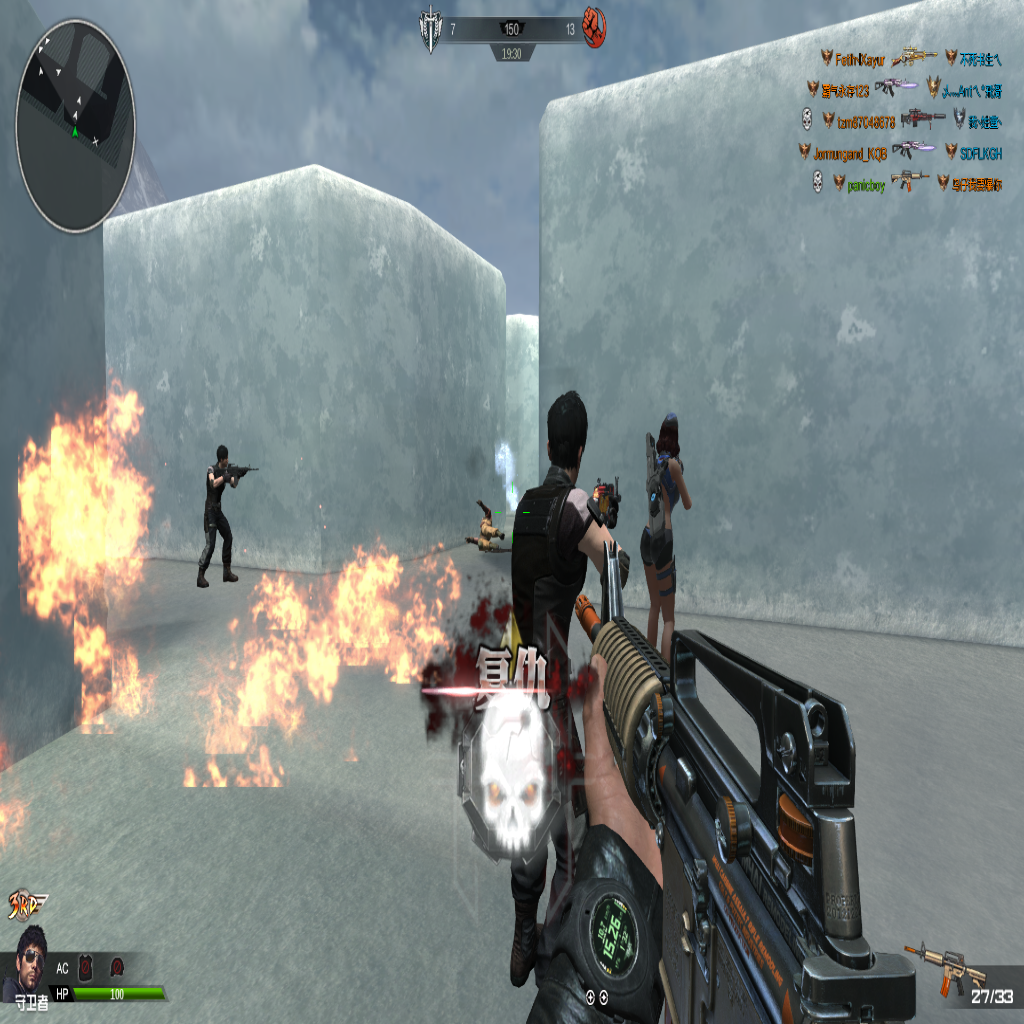ct: (509, 384, 626, 685), (642, 418, 692, 668)
